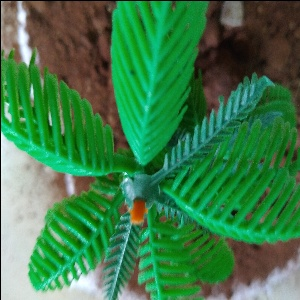plant: (6, 13, 295, 300)
